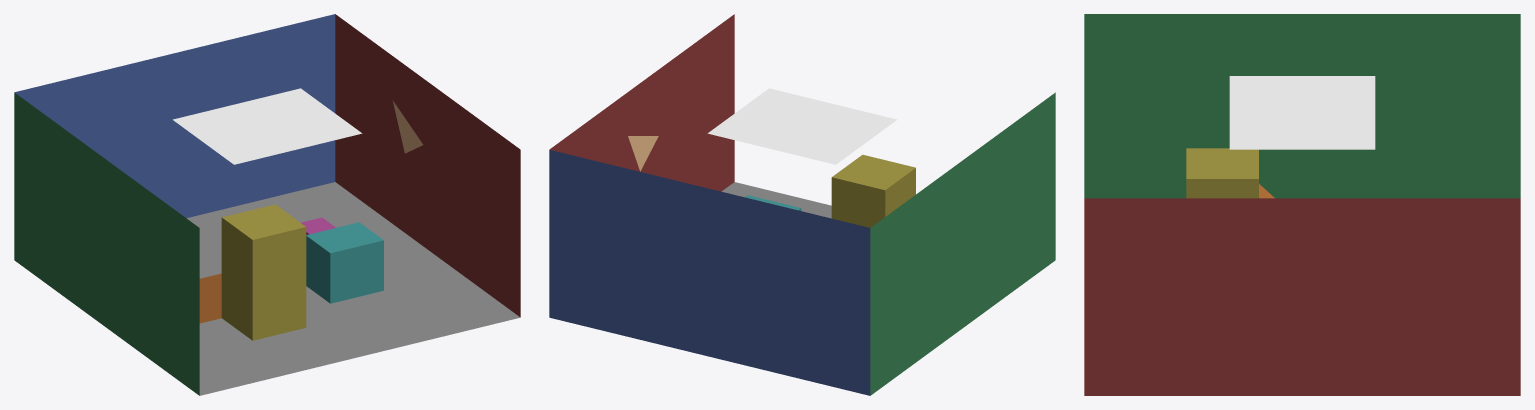
The model's file is scene_simple.obj.
3 renders of one model, left to right at view 1: azimuth 30°, elevation 25°; view 2: azimuth 150°, elevation 25°; view 3: azimuth 270°, elevation 25°, orthographic. The views are drawn at different scales.
Parts seen in each view (by area): view 1: wall_back, wall_left, wall_right, floor, box_tall, light_rect, box_short, ramp, light_tri; view 2: wall_back, wall_left, wall_right, light_rect, box_tall, floor, light_tri; view 3: wall_right, wall_left, light_rect, box_tall.
Part boxes in pixels (x1,y1,x2,y2): wall_back: (15, 14, 335, 218); wall_left: (14, 92, 199, 395); wall_right: (335, 14, 520, 317); floor: (187, 182, 519, 395); box_tall: (221, 204, 306, 340); light_rect: (173, 88, 362, 164); box_short: (306, 222, 383, 303); ramp: (199, 273, 221, 323); light_tri: (392, 100, 423, 153); wall_back: (549, 149, 870, 395); wall_left: (870, 92, 1055, 395); wall_right: (550, 14, 734, 191); light_rect: (707, 88, 896, 164); box_tall: (831, 154, 915, 227); floor: (722, 182, 831, 218); light_tri: (628, 136, 658, 171); wall_right: (1084, 198, 1520, 395); wall_left: (1084, 14, 1520, 198); light_rect: (1229, 76, 1375, 149); box_tall: (1186, 148, 1258, 198).
Bounding box in the file's own units: 6 × 3 × 6.
